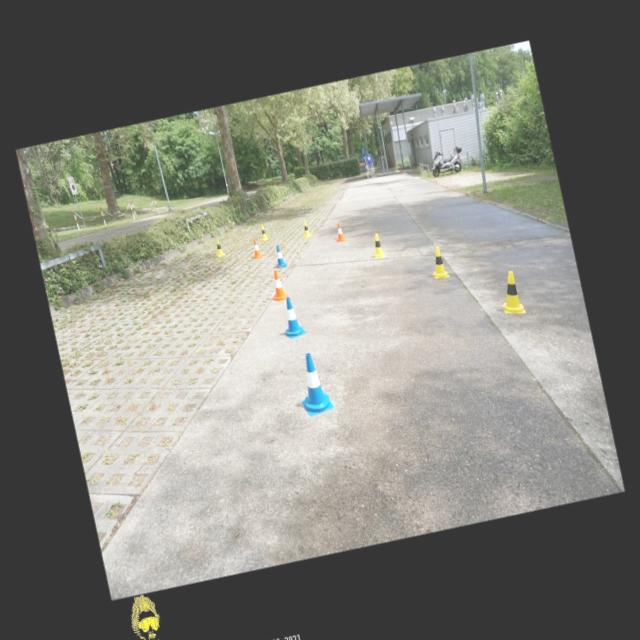blue_cone: (292, 350, 334, 417), (278, 296, 306, 340), (272, 244, 288, 268)
orange_cone: (266, 268, 288, 302), (250, 238, 262, 258), (334, 222, 346, 241)
yellow_cone: (494, 269, 526, 317), (427, 246, 449, 280), (370, 232, 384, 257), (213, 238, 224, 256), (258, 224, 269, 241), (301, 220, 311, 237)
